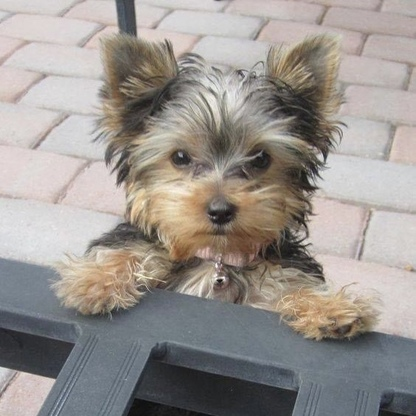yorkshire: (65, 30, 382, 342)
